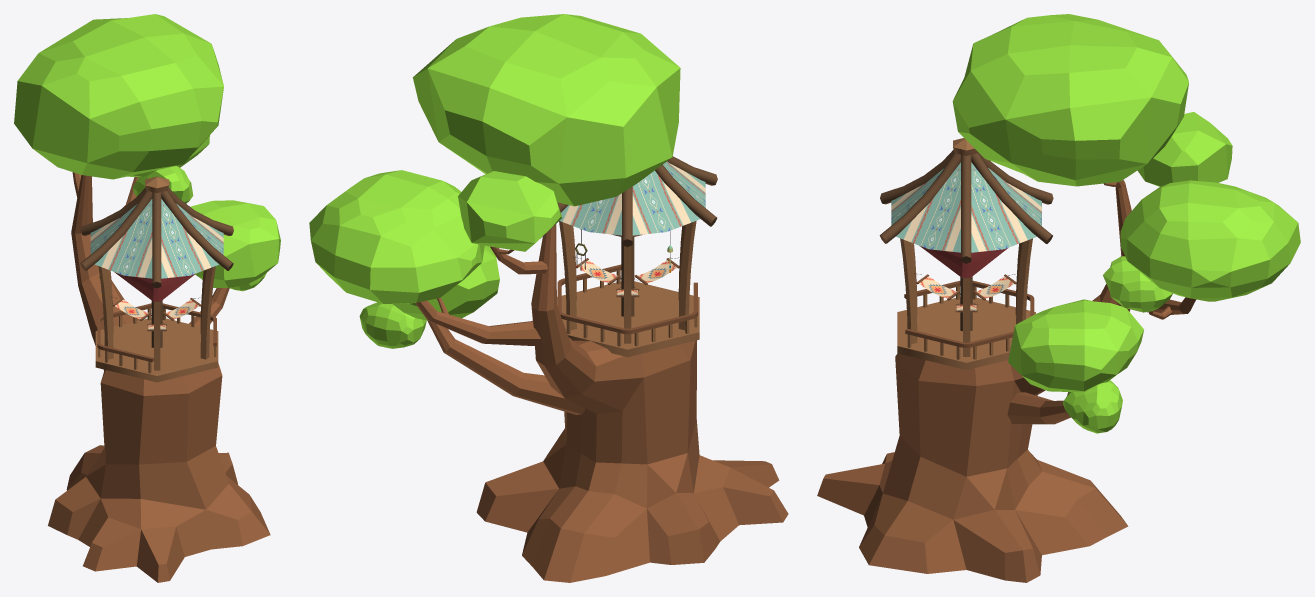
Rendered from O_Tree-House_2.fbx.
The picture shows the model from 3 angles, left to right: view 1: azimuth 30°, elevation 25°; view 2: azimuth 150°, elevation 25°; view 3: azimuth 270°, elevation 25°; orthographic projection. The views are drawn at different scales.
Parts seen in each view (by area): view 1: Tree, House, Roof, Bed; view 2: Tree, House, Roof, Bed; view 3: Tree, House, Roof, Bed.
Part boxes in pixels (box(x1,y1,x2,y2)): Tree: box(14, 14, 280, 582); House: box(80, 176, 233, 382); Roof: box(90, 199, 223, 278); Bed: box(111, 296, 203, 331); Tree: box(309, 14, 788, 582); House: box(557, 156, 717, 356); Roof: box(559, 161, 705, 235); Bed: box(573, 256, 681, 297); Tree: box(817, 14, 1300, 582); House: box(879, 138, 1053, 369); Roof: box(891, 162, 1041, 252); Bed: box(914, 272, 1018, 312).
Bounding box in the file's own units: 8.83 × 13.77 × 12.08.
